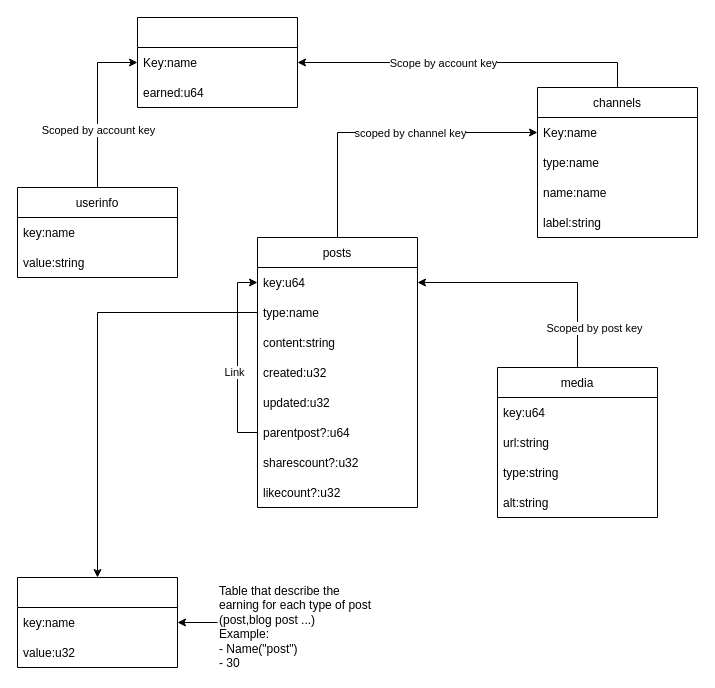
Some shapes in this 715 by 688 pixel diagram are drawn without their labels. Each missing label, with the box of its shape:
accounts: (136, 16, 298, 108)
earning: (16, 576, 178, 668)
